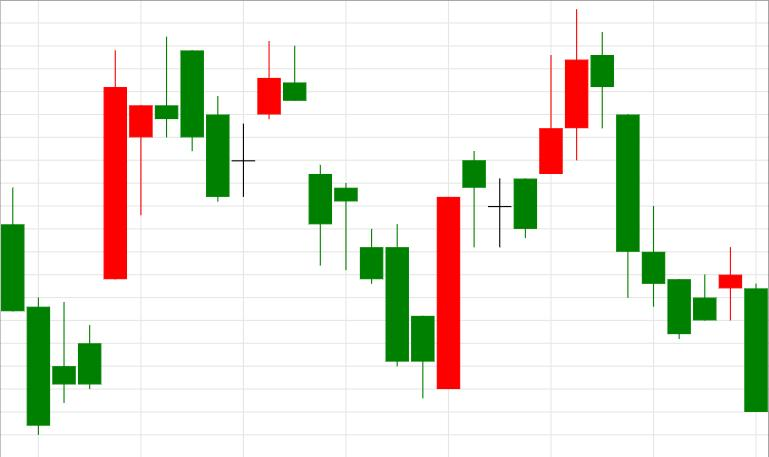hanging_man_fall: (27, 50, 154, 434)
